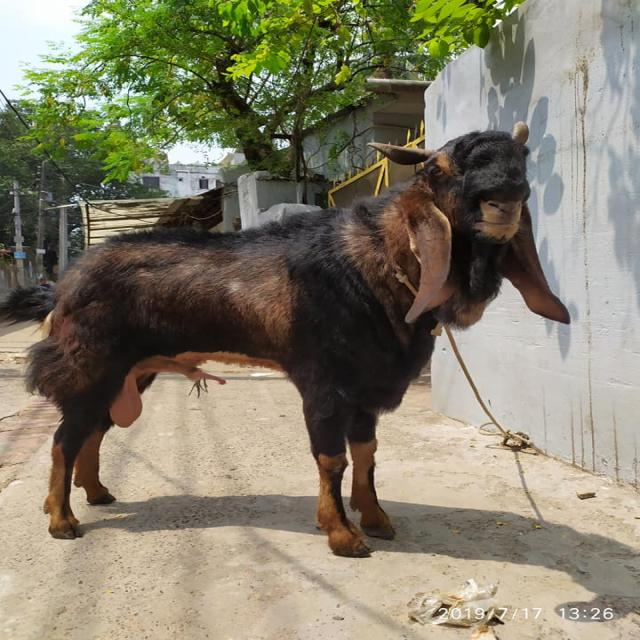not_pig: (2, 120, 570, 558)
